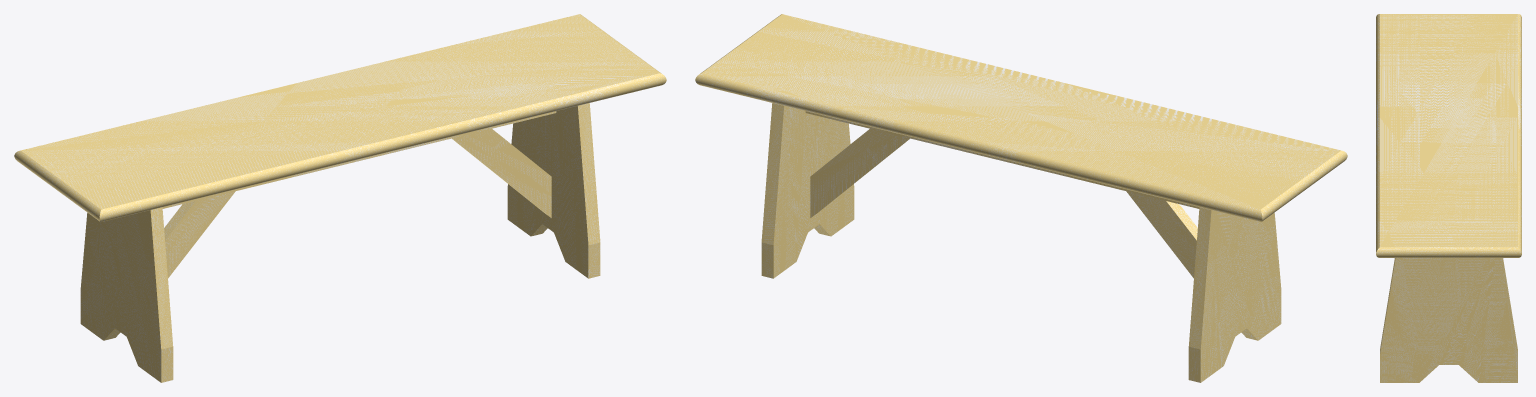
3 views of the same model, side by side, from view 1: azimuth 30°, elevation 25°; view 2: azimuth 150°, elevation 25°; view 3: azimuth 270°, elevation 25° (orthographic). The views are drawn at different scales.
Parts seen in each view (by area): view 1: mesh1_mesh1-geometry, mesh2_mesh2-geometry; view 2: mesh1_mesh1-geometry, mesh2_mesh2-geometry; view 3: mesh1_mesh1-geometry.
Part boxes in pixels (bbox=[...]): mesh1_mesh1-geometry: bbox=[14, 14, 666, 382]; mesh2_mesh2-geometry: bbox=[164, 191, 235, 278]; mesh1_mesh1-geometry: bbox=[695, 14, 1347, 382]; mesh2_mesh2-geometry: bbox=[1126, 191, 1197, 278]; mesh1_mesh1-geometry: bbox=[1376, 14, 1521, 382].
Size of the model in its own units: 0.9252 by 0.2932 by 0.2411.
